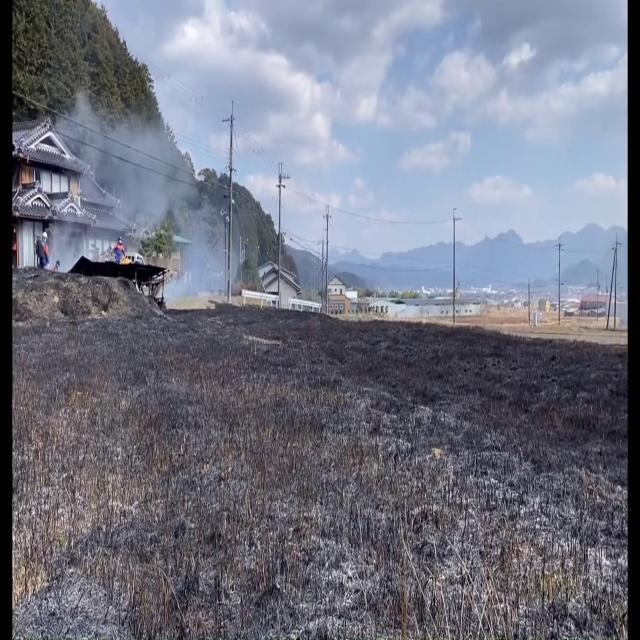Smoke: (52, 98, 180, 262), (162, 190, 242, 306)
